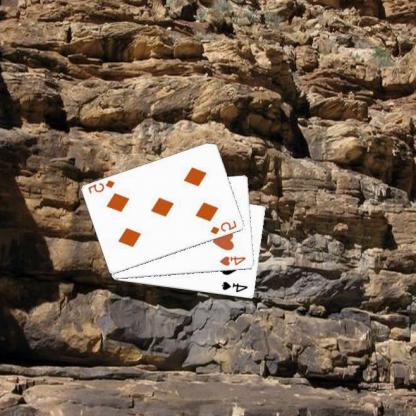4H: (219, 254, 249, 268)
4S: (221, 279, 251, 294)
5D: (209, 217, 240, 236), (87, 177, 118, 195)
